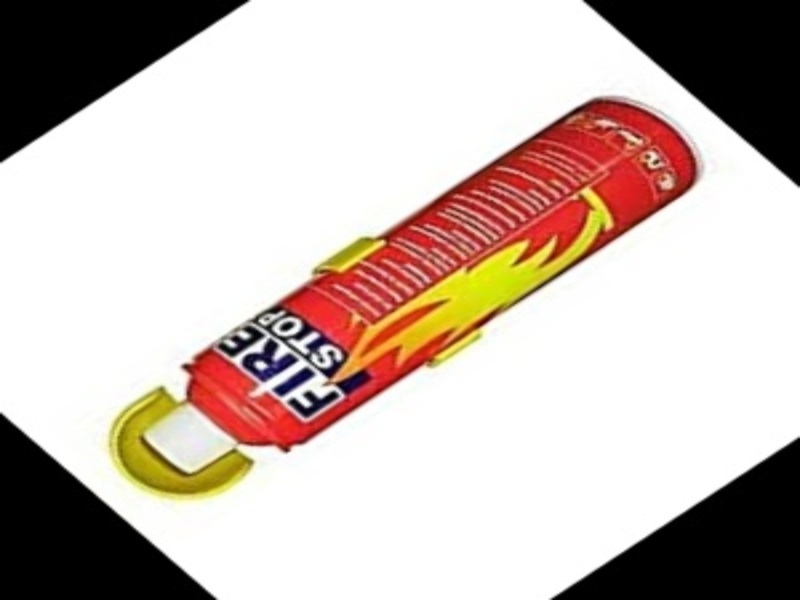fire_extinguisher: (57, 103, 749, 498)
